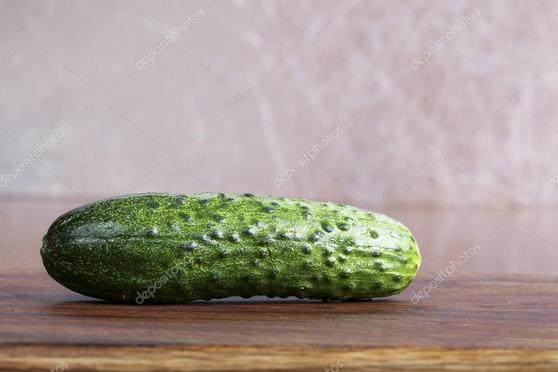cucumber: (37, 189, 424, 307)
